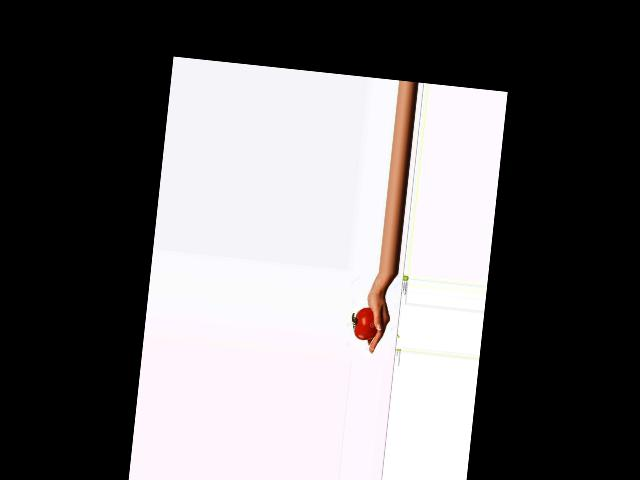tomato: (353, 306, 379, 341)
